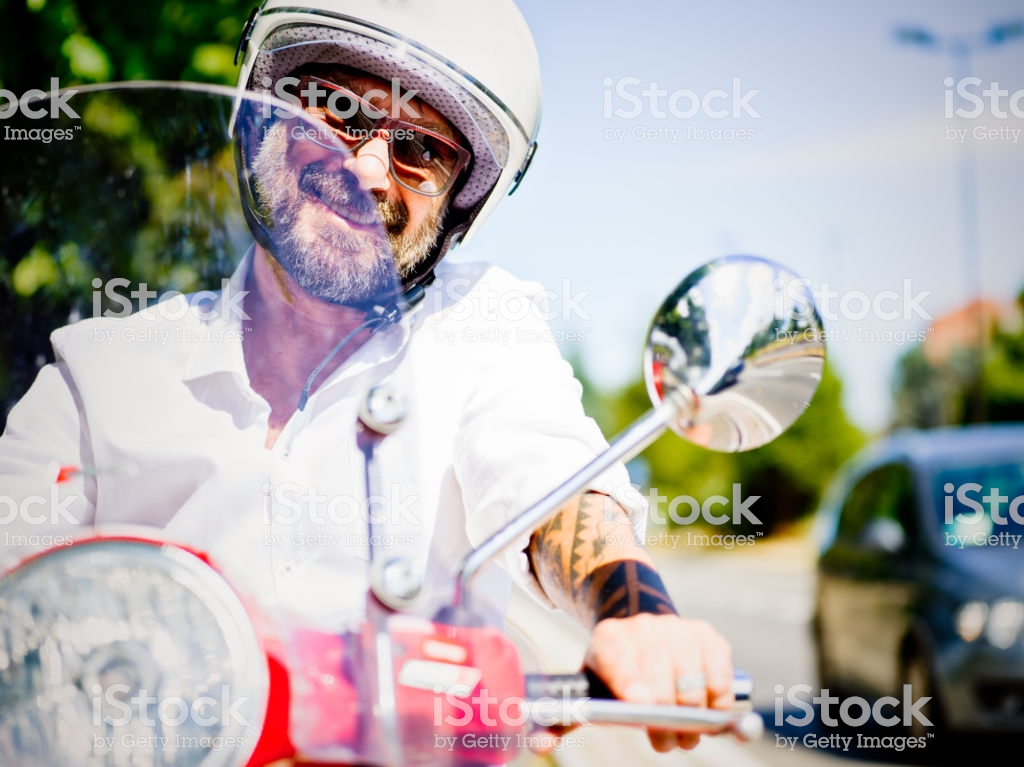helmet: (234, 12, 552, 204)
